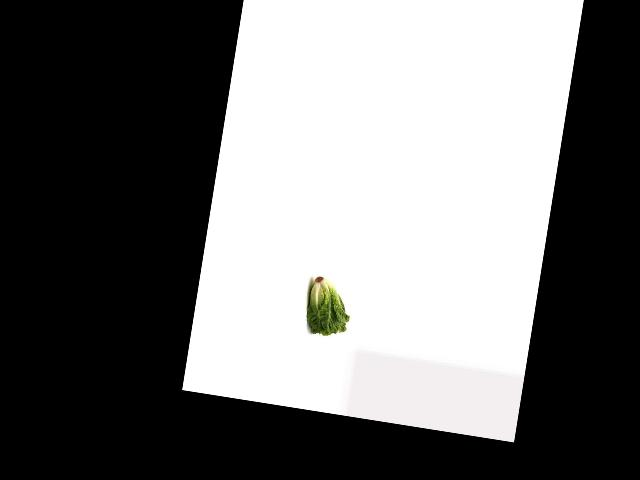lettuce: (302, 272, 355, 338)
